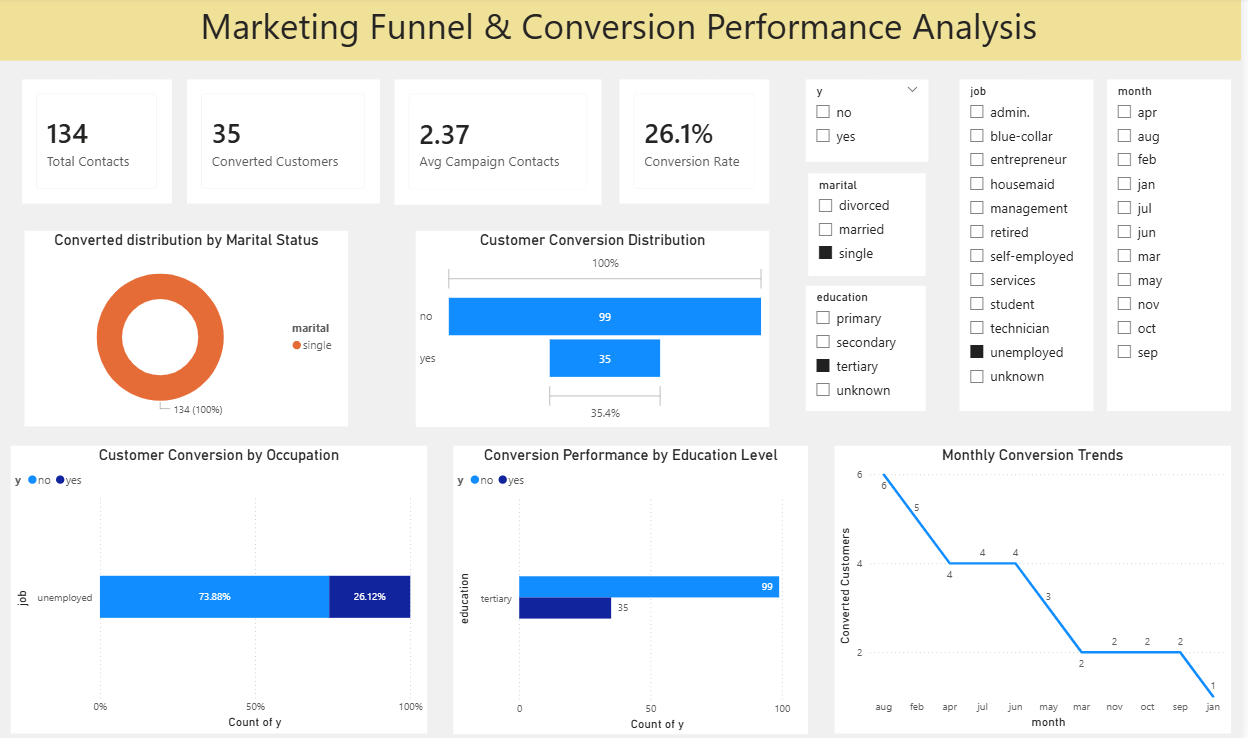

The dashboard page shown, as its layout file describes it:
{"tool":"powerbi","page":{"name":"Page 1","canvas":[1500,900],"ordinal":0},"visuals":[{"type":"textbox","box":[0,0,1500.5,76.9],"z":0},{"type":"cardVisual","fields":{"Data":["bank-full.Total Contacts"]},"box":[30.2,98.9,181,149.6],"z":1000},{"type":"cardVisual","fields":{"Data":["bank-full.Converted Customers"]},"box":[229.2,98.9,232.8,149.6],"z":2000},{"type":"cardVisual","fields":{"Data":["bank-full.Conversion Rate"]},"box":[750.4,100.1,181,149.6],"z":3000},{"type":"cardVisual","fields":{"Data":["bank-full.Avg Campaign Contacts"]},"box":[479,98.9,249.7,150.8],"z":4000},{"type":"funnel","title":"Customer Conversion Distribution","fields":{"Y":["CountNonNull(bank-full.marital)"],"Category":["bank-full.y"]},"box":[505.2,282,426.8,236.8],"z":5000},{"type":"hundredPercentStackedBarChart","title":"Customer Conversion by Occupation","fields":{"Category":["bank-full.job"],"Series":["bank-full.y"],"Y":["CountNonNull(bank-full.y)"]},"box":[16.6,541.4,502.2,346.9],"z":6000},{"type":"donutChart","title":"Converted distribution by Marital Status","fields":{"Category":["bank-full.marital"],"Y":["CountNonNull(bank-full.y)"]},"box":[33.8,281.4,390.8,236.4],"z":7000},{"type":"slicer","fields":{"Values":["bank-full.y"]},"box":[975.7,99.5,147.8,99.5],"z":8000},{"type":"clusteredBarChart","title":"Conversion Performance by Education Level","fields":{"Category":["bank-full.education"],"Series":["bank-full.y"],"Y":["CountNonNull(bank-full.y)"]},"box":[550.4,541.4,428.3,348.4],"z":9000},{"type":"lineChart","title":"Monthly Conversion Trends","fields":{"Category":["bank-full.month"],"Y":["bank-full.Converted Customers"]},"box":[1010.4,541.4,478.1,346.9],"z":10000},{"type":"slicer","fields":{"Values":["bank-full.marital"]},"box":[978.7,212.6,141.8,123.7],"z":11000},{"type":"slicer","fields":{"Values":["bank-full.month"]},"box":[1339.1,99.5,149.3,399.6],"z":12000},{"type":"slicer","fields":{"Values":["bank-full.job"]},"box":[1161.2,99.5,161.4,399.6],"z":13000},{"type":"slicer","fields":{"Values":["bank-full.education"]},"box":[975.7,348.4,144.8,150.8],"z":14000}]}

Visuals, with their boxes in screenshot pixels (x1, y1, x2, y2), scaled from the page's 1500x900 canvas onto the 1248x738 screenshot:
textbox: box=[0, 0, 1247, 63]
cardVisual - bank-full.Total Contacts: box=[25, 81, 176, 204]
cardVisual - bank-full.Converted Customers: box=[191, 81, 384, 204]
cardVisual - bank-full.Conversion Rate: box=[624, 82, 775, 205]
cardVisual - bank-full.Avg Campaign Contacts: box=[399, 81, 606, 205]
"Customer Conversion Distribution" funnel: box=[420, 231, 775, 425]
"Customer Conversion by Occupation" hundredPercentStackedBarChart: box=[14, 444, 432, 728]
"Converted distribution by Marital Status" donutChart: box=[28, 231, 353, 425]
slicer - bank-full.y: box=[812, 82, 935, 163]
"Conversion Performance by Education Level" clusteredBarChart: box=[458, 444, 814, 730]
"Monthly Conversion Trends" lineChart: box=[841, 444, 1238, 728]
slicer - bank-full.marital: box=[814, 174, 932, 276]
slicer - bank-full.month: box=[1114, 82, 1238, 409]
slicer - bank-full.job: box=[966, 82, 1100, 409]
slicer - bank-full.education: box=[812, 286, 932, 409]
